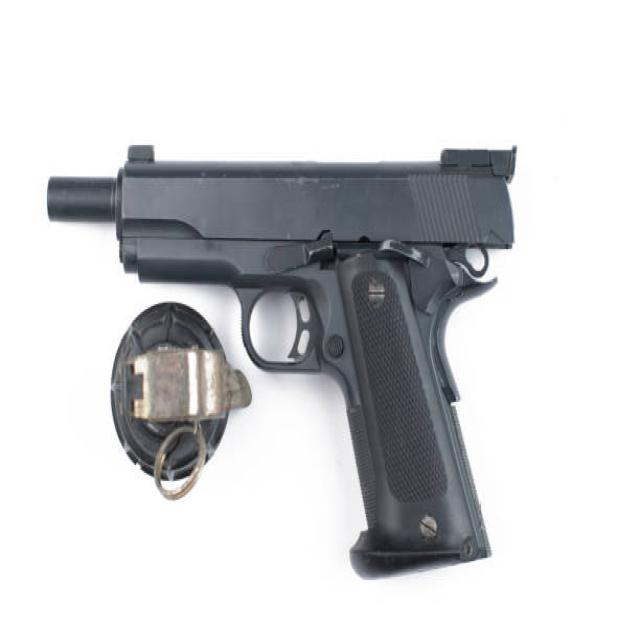grenade: (107, 296, 255, 507)
